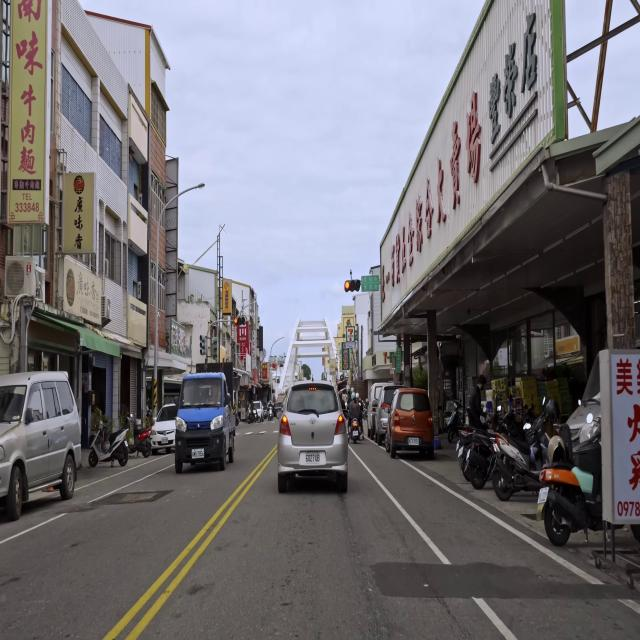red light: (344, 280, 361, 291), (233, 317, 246, 325)
